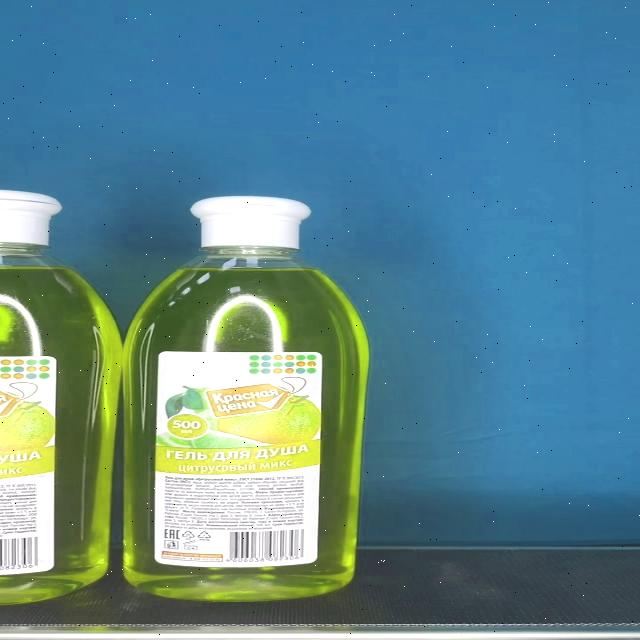Bottle: (121, 194, 369, 602)
Cap: (190, 195, 310, 248)
